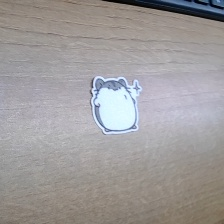mouse: (89, 73, 143, 137)
